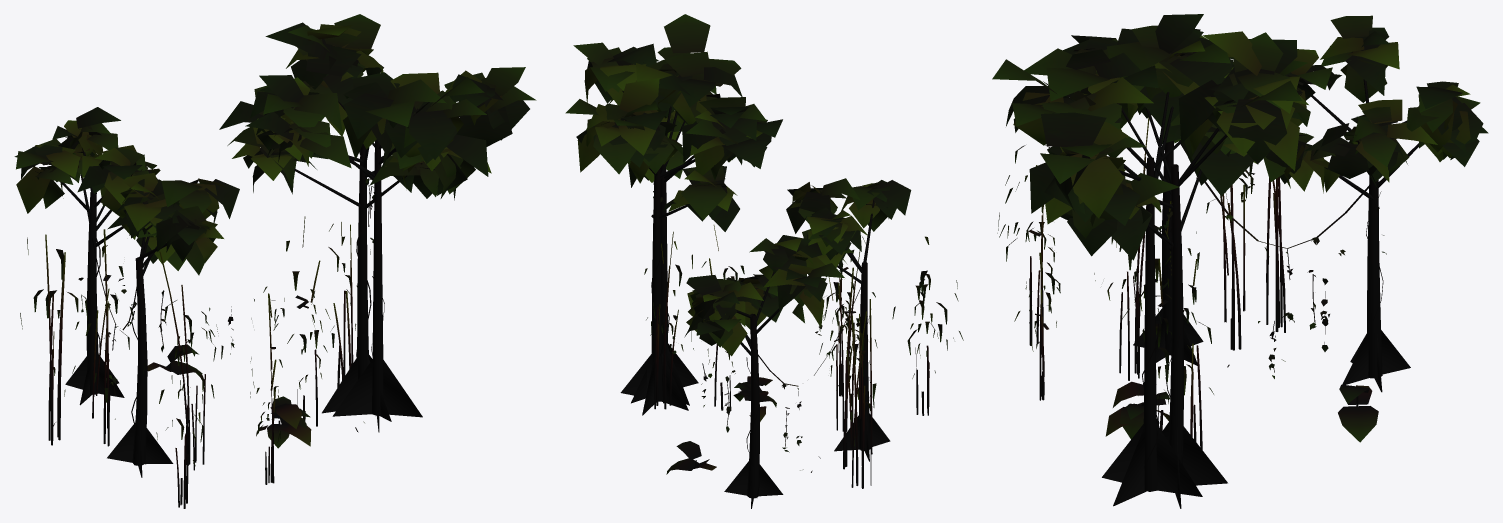
Rendered from patch_tangle_far.glb.
The picture shows the model from 3 angles, left to right: view 1: azimuth 30°, elevation 25°; view 2: azimuth 150°, elevation 25°; view 3: azimuth 270°, elevation 25°; orthographic projection. The views are drawn at different scales.
Visible parts, largest first — view 1: patch_tangle_far; view 2: patch_tangle_far; view 3: patch_tangle_far.
Boxes of the visible parts, x1,y1,x2,y2 form: patch_tangle_far: [14, 14, 536, 508]; patch_tangle_far: [565, 14, 963, 508]; patch_tangle_far: [992, 14, 1488, 508].
Bounding box in the file's own units: 15.04 × 12.59 × 12.59.
Materials: 1 (1 with a texture image).
